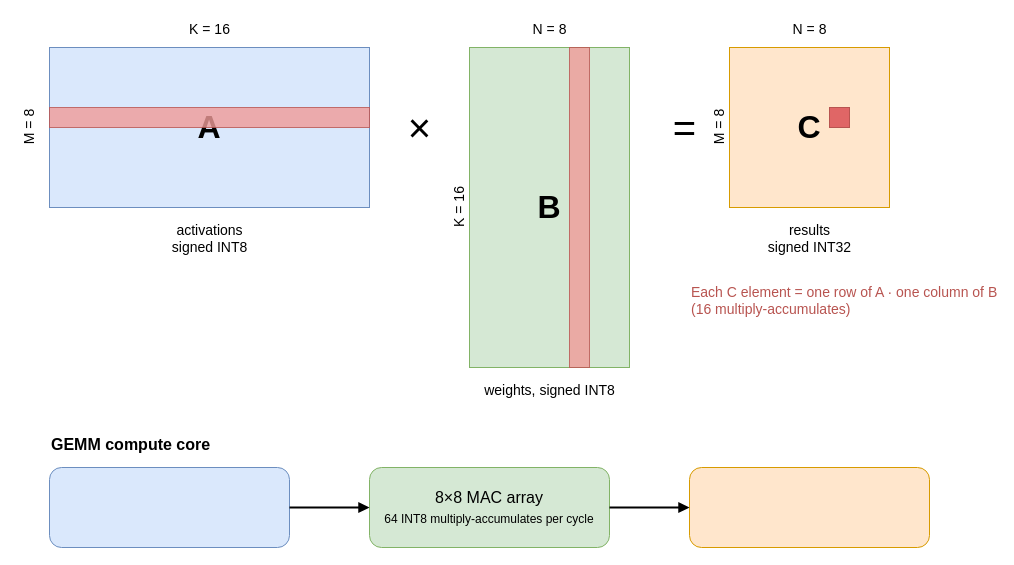
This 1014x565 diagram has some shape labels left out. Each missing label, with the centre of its shape:
Operand frontend reads A and B, pairs them by K: [169,507]
Result drain INT32 outputs, one at a time: [809,507]
